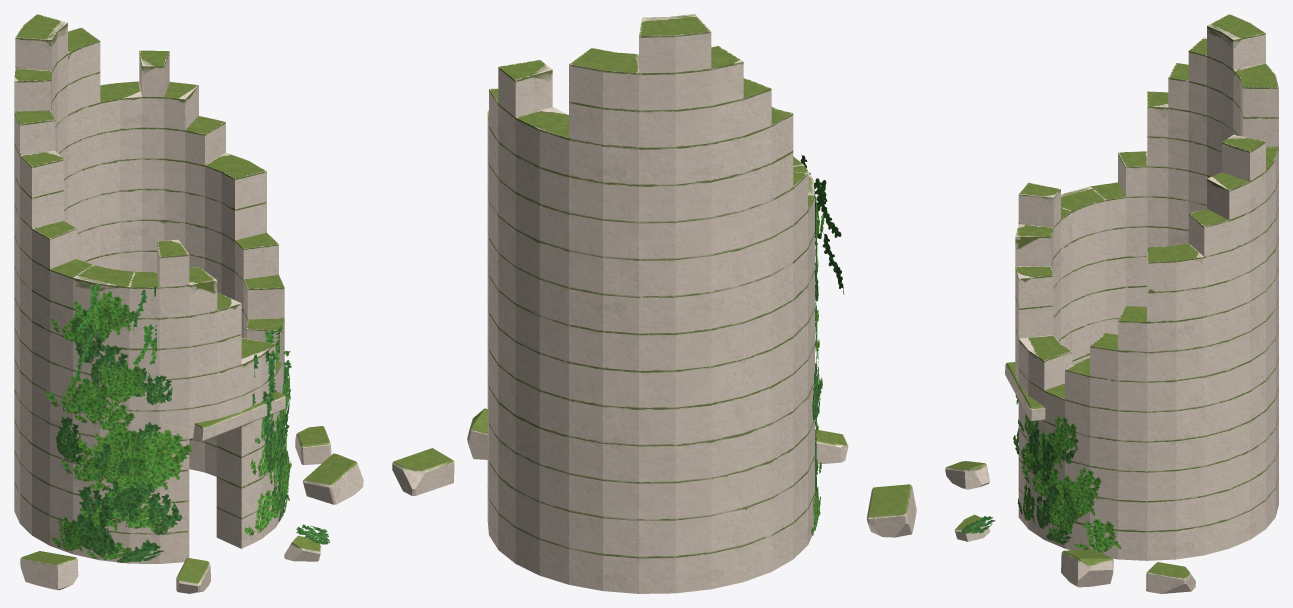
The model's file is turm.glb.
3 views of the same model, side by side, from view 1: azimuth 30°, elevation 25°; view 2: azimuth 150°, elevation 25°; view 3: azimuth 270°, elevation 25° (orthographic). The views are drawn at different scales.
Visible parts, largest first — view 1: turm; view 2: turm; view 3: turm.
Boxes of the visible parts, x1=… form: turm: x1=14, y1=14, x2=363, y2=593; turm: x1=392, y1=14, x2=916, y2=593; turm: x1=945, y1=14, x2=1278, y2=593.
Bounding box in the file's own units: 6.85 × 8.25 × 5.57.
2 materials, 2 textured.
